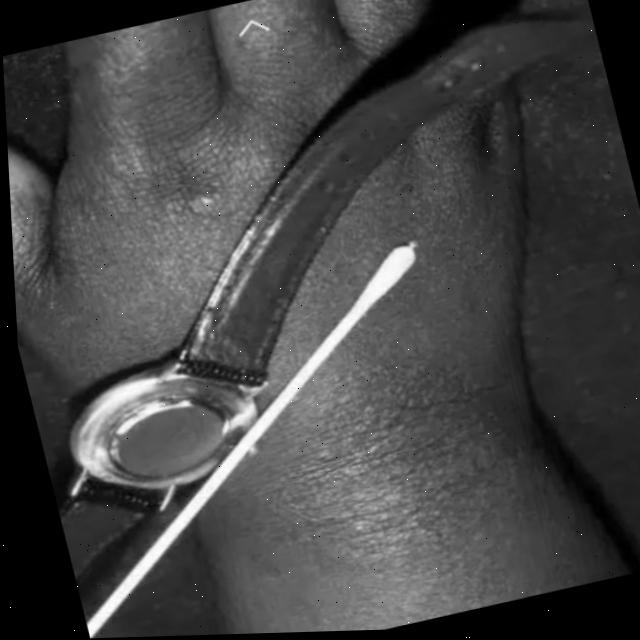Eczema: (204, 351, 536, 618)
